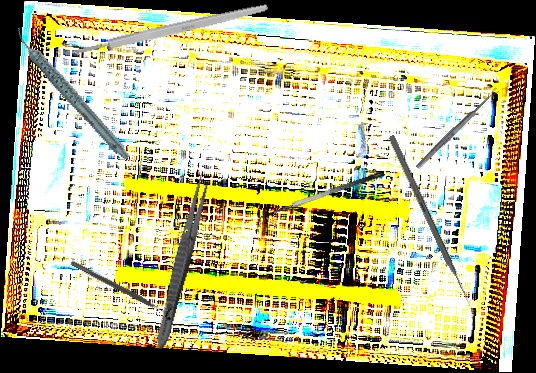Dressing Forceps: (151, 171, 213, 353)
Fixation Ring: (67, 254, 178, 323)
Handpiece: (13, 8, 133, 178)
Pusher: (387, 134, 476, 313)
Scalpel Handle: (74, 1, 269, 58)
Spatula Surgical: (254, 169, 389, 229)
Surgical Spoon: (414, 86, 501, 171)
